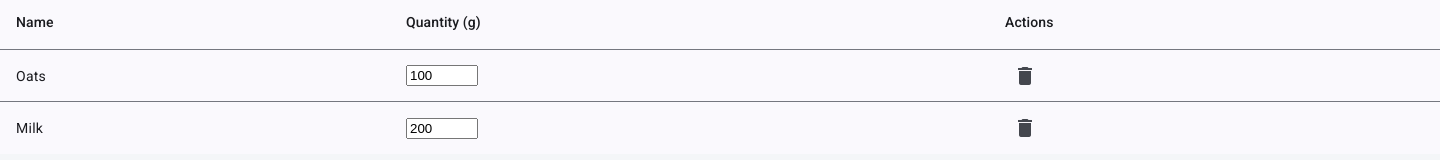
Test case: MealDetailsComponent › restores the current quantity when the input is left empty
Clear the number field named "Quantity in grams for Oats" at (442, 76), box x1=406 y1=65 x2=478 y2=86
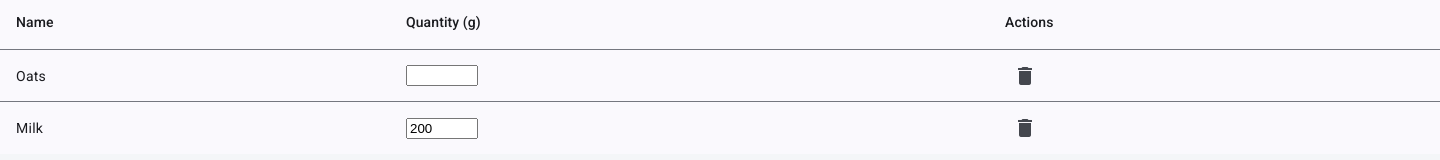
Leave the number field named "Quantity in grams for Oats", box x1=406 y1=65 x2=478 y2=86
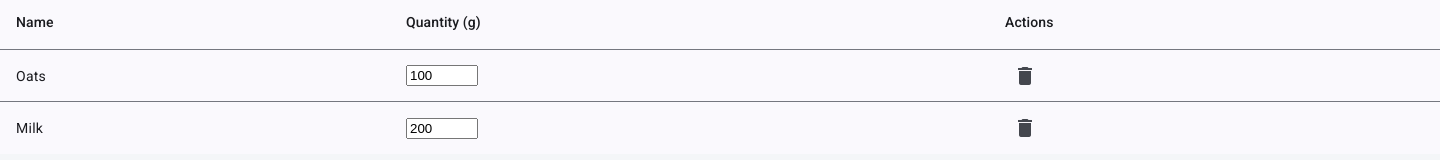
Expected: the number field named "Quantity in grams for Oats" holds "100", x1=406 y1=65 x2=478 y2=86
